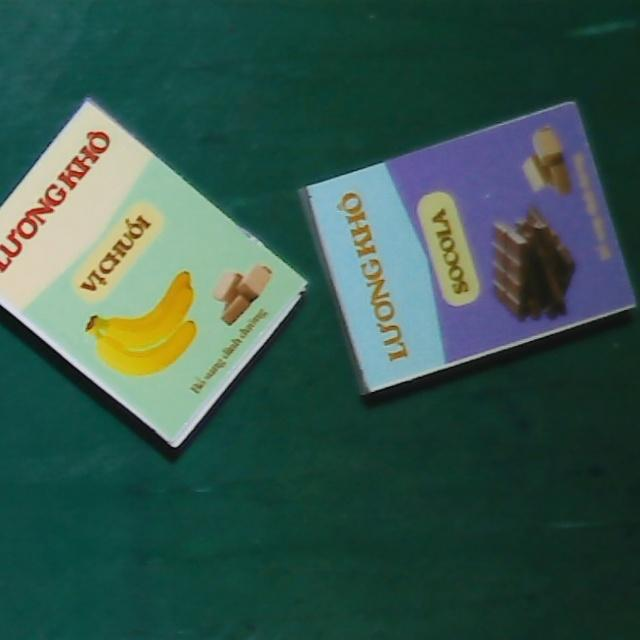chuoi: (0, 99, 312, 450)
